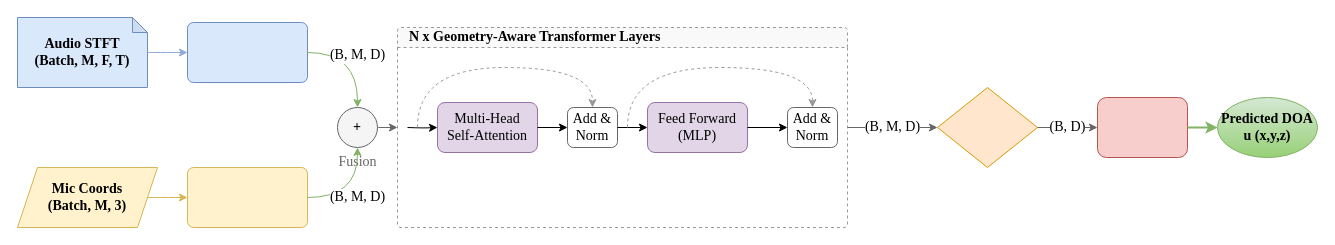
Image size: 1335x245. Some labels were removed from this diagram. The shapes that lost their labels are listed below. From the top down, each one's centre as x and y in pixels, then its label:
At (x=247, y=52): "Shared CNN (Feature Extraction)".
At (x=987, y=127): "Global Avg Pooling".
At (x=1142, y=127): "MLP Head".
At (x=247, y=197): "Fourier Encoding + MLP Projector".
